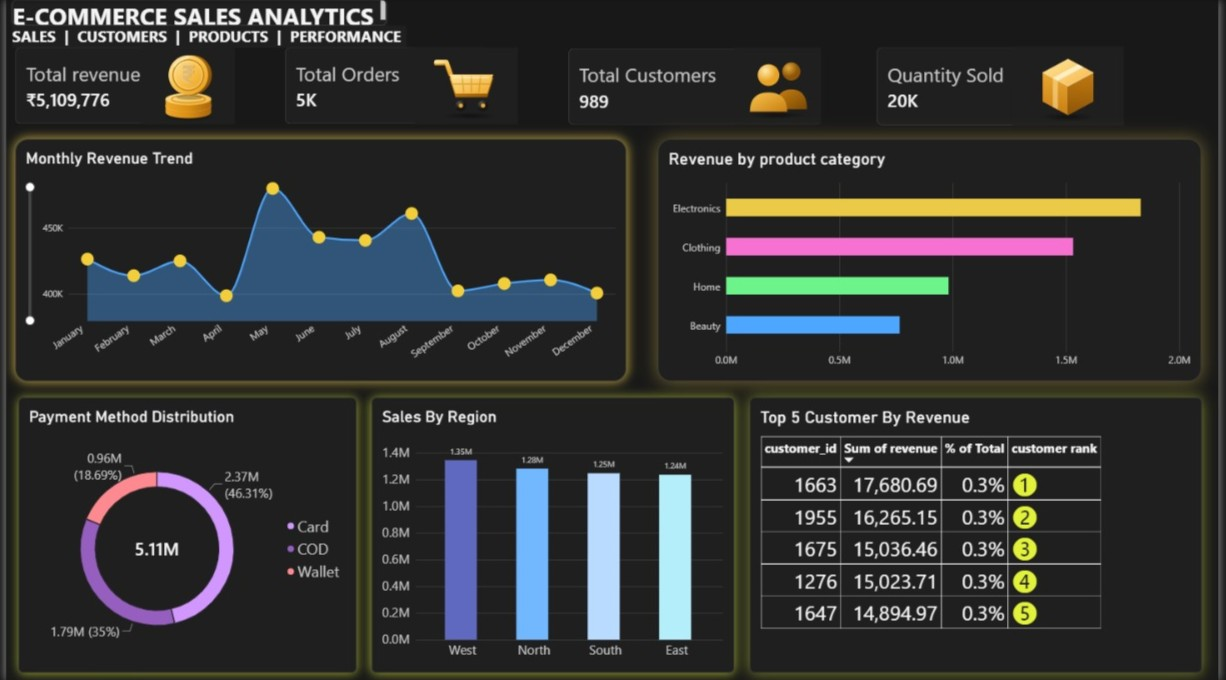

This screenshot's page, from the dashboard's own definition file:
{"tool":"powerbi","page":{"name":"Page 1","canvas":[1920,1080],"ordinal":0},"visuals":[{"type":"textbox","box":[10.3,0,592.8,41.2],"z":0},{"type":"textbox","box":[10.3,41.2,623.7,35],"z":1000},{"type":"cardVisual","fields":{"Data":["ecommerce_sales_analytics_5000_cleaned (6).Revenue INR"]},"box":[14.4,76.2,323.2,121.4],"z":2000},{"type":"image","box":[214.1,76.2,148.2,121.4],"z":3000},{"type":"cardVisual","fields":{"Data":["ecommerce_sales_analytics_5000_cleaned (6).Total Orders"]},"box":[442.5,76.2,323.2,121.4],"z":4000},{"type":"image","box":[648.4,76.2,162.6,121.4],"z":5000},{"type":"cardVisual","fields":{"Data":["ecommerce_sales_analytics_5000_cleaned (6).Total Customers"]},"box":[891.3,78.2,399.3,121.4],"z":6000},{"type":"image","box":[1152.7,76.2,137.9,121.4],"z":7000},{"type":"cardVisual","fields":{"Data":["ecommerce_sales_analytics_5000_cleaned (6).Quantity Sold"]},"box":[1379.1,76.2,323.2,123.5],"z":8000},{"type":"image","box":[1593.1,74.1,177,125.6],"z":9000},{"type":"lineChart","title":"Monthly Revenue Trend","fields":{"Category":["ecommerce_sales_analytics_5000_cleaned (6).order_date.Variation.Date Hierarchy.Month"],"Y":["Sum(ecommerce_sales_analytics_5000_cleaned (6).revenue)"]},"box":[14.4,220.2,967.4,382.8],"z":10000},{"type":"clusteredBarChart","title":"Revenue by product category","fields":{"Category":["ecommerce_sales_analytics_5000_cleaned (6).product_category"],"Y":["Sum(ecommerce_sales_analytics_5000_cleaned (6).revenue)"]},"box":[1033.3,220.2,860.4,382.8],"z":11000},{"type":"donutChart","title":"Payment Method Distribution","fields":{"Category":["ecommerce_sales_analytics_5000_cleaned (6).payment_method"],"Y":["Sum(ecommerce_sales_analytics_5000_cleaned (6).revenue)"]},"box":[20.6,629.8,535.2,436.4],"z":12000},{"type":"clusteredColumnChart","title":"Sales By Region","fields":{"Category":["ecommerce_sales_analytics_5000_cleaned (6).region"],"Y":["Sum(ecommerce_sales_analytics_5000_cleaned (6).revenue)"]},"box":[578.4,629.8,574.3,436.4],"z":13000},{"type":"tableEx","title":"Top 5 Customer By Revenue","fields":{"Values":["ecommerce_sales_analytics_5000_cleaned (6).customer_id","Sum(ecommerce_sales_analytics_5000_cleaned (6).revenue)","ecommerce_sales_analytics_5000_cleaned (6).% of Total","ecommerce_sales_analytics_5000_cleaned (6).Rank Badge"]},"box":[1177.4,629.8,716.3,436.4],"z":14000}]}

Visuals, with their boxes in screenshot pixels (x1, y1, x2, y2), scaled from the page's 1920x1080 canvas onto the 1226x680 screenshot:
textbox: {"left": 7, "top": 0, "right": 385, "bottom": 26}
textbox: {"left": 7, "top": 26, "right": 405, "bottom": 48}
cardVisual - ecommerce_sales_analytics_5000_cleaned (6).Revenue INR: {"left": 9, "top": 48, "right": 216, "bottom": 124}
image: {"left": 137, "top": 48, "right": 231, "bottom": 124}
cardVisual - ecommerce_sales_analytics_5000_cleaned (6).Total Orders: {"left": 283, "top": 48, "right": 489, "bottom": 124}
image: {"left": 414, "top": 48, "right": 518, "bottom": 124}
cardVisual - ecommerce_sales_analytics_5000_cleaned (6).Total Customers: {"left": 569, "top": 49, "right": 824, "bottom": 126}
image: {"left": 736, "top": 48, "right": 824, "bottom": 124}
cardVisual - ecommerce_sales_analytics_5000_cleaned (6).Quantity Sold: {"left": 881, "top": 48, "right": 1087, "bottom": 126}
image: {"left": 1017, "top": 47, "right": 1130, "bottom": 126}
"Monthly Revenue Trend" lineChart: {"left": 9, "top": 139, "right": 627, "bottom": 380}
"Revenue by product category" clusteredBarChart: {"left": 660, "top": 139, "right": 1209, "bottom": 380}
"Payment Method Distribution" donutChart: {"left": 13, "top": 397, "right": 355, "bottom": 671}
"Sales By Region" clusteredColumnChart: {"left": 369, "top": 397, "right": 736, "bottom": 671}
"Top 5 Customer By Revenue" tableEx: {"left": 752, "top": 397, "right": 1209, "bottom": 671}
